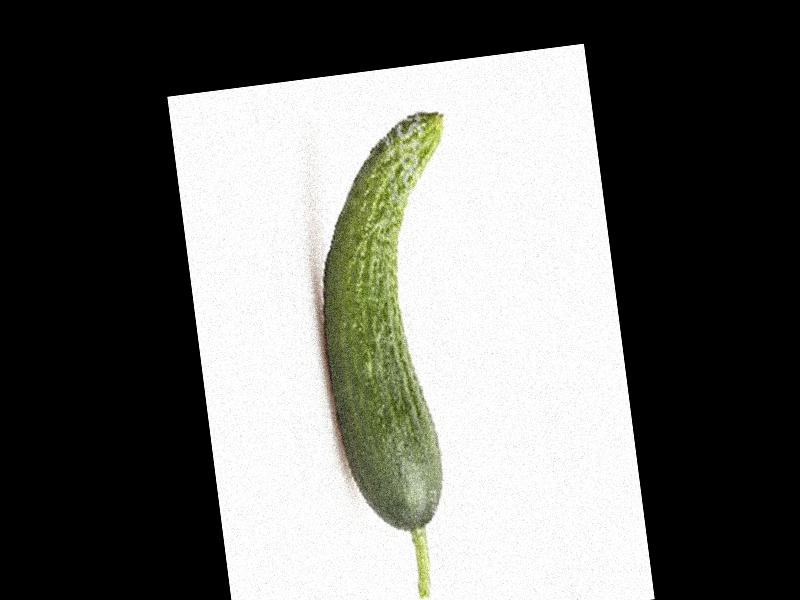Cucumber: (297, 109, 501, 600)
